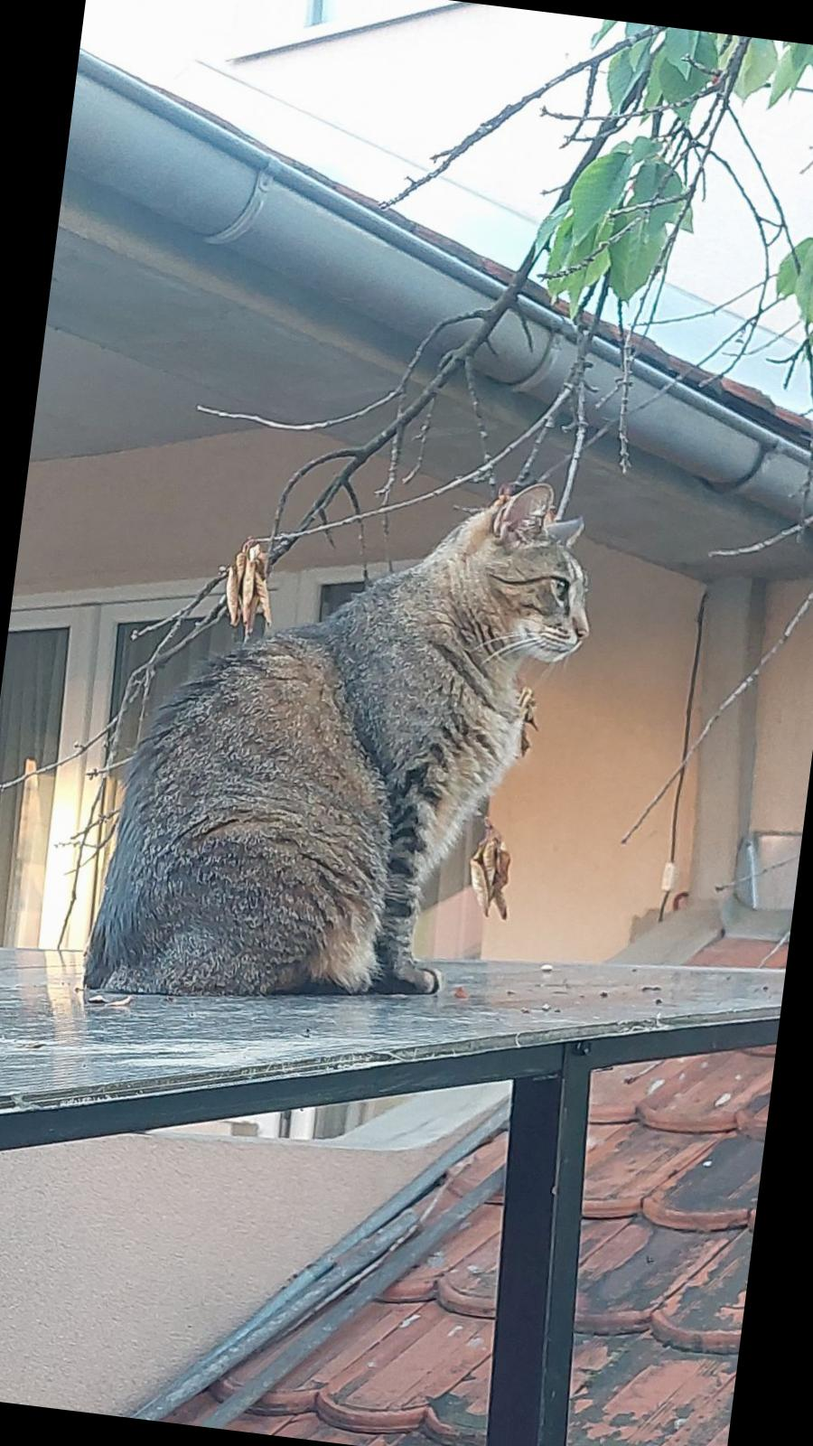macka: (78, 429, 606, 1049)
